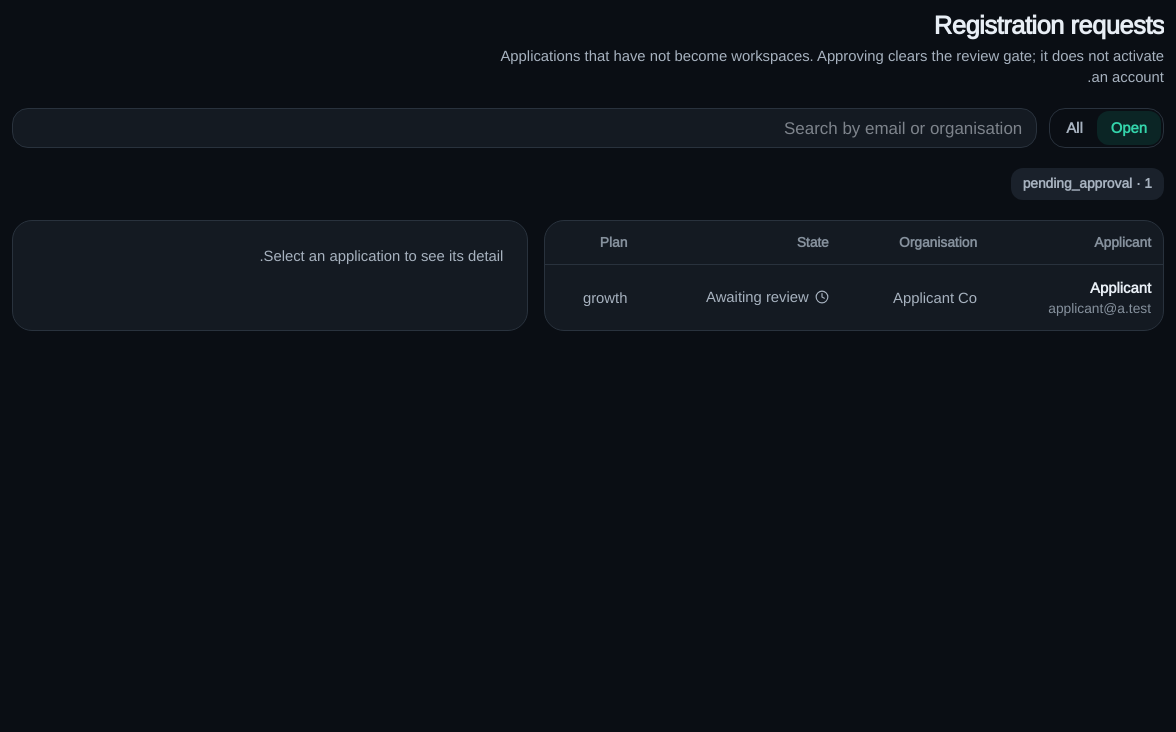
Scenario: RegistrationsPage › offers no actions on an application that already became a workspace
Click the row with test id "registration-row": (1120, 288) x1=545 y1=265 x2=1163 y2=330
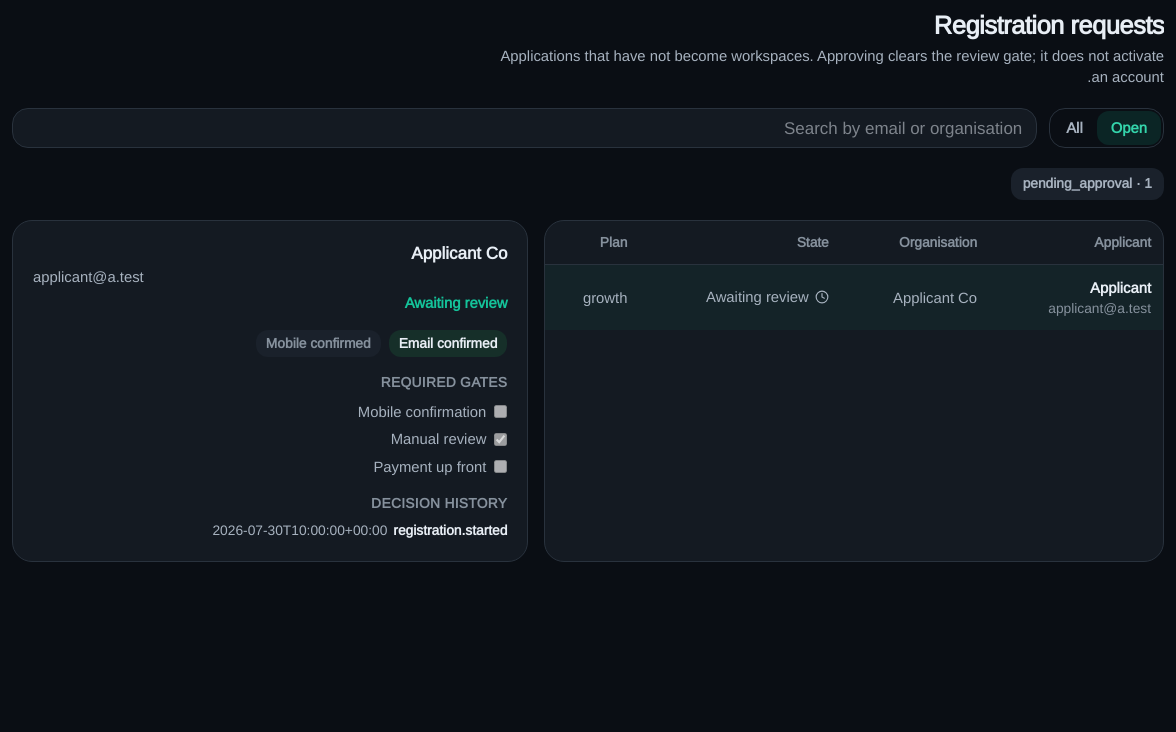
expect the element with test id "registration-detail" is shown: met, box x1=12 y1=220 x2=528 y2=562
